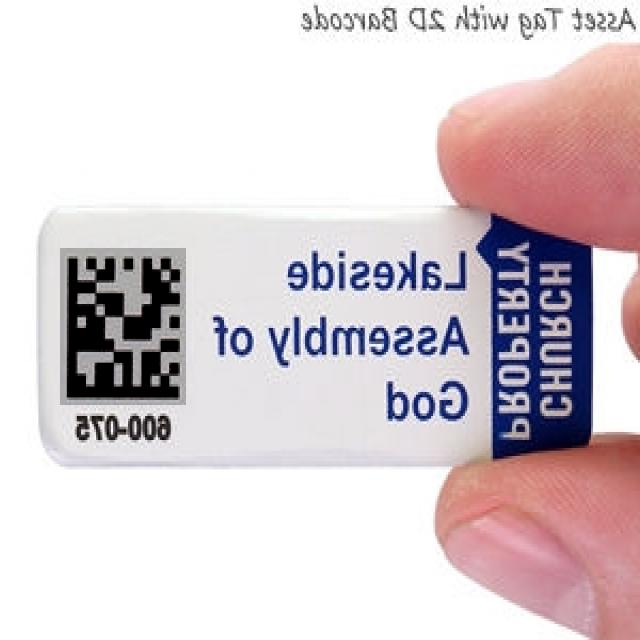DataMatrix: (60, 248, 186, 405)
